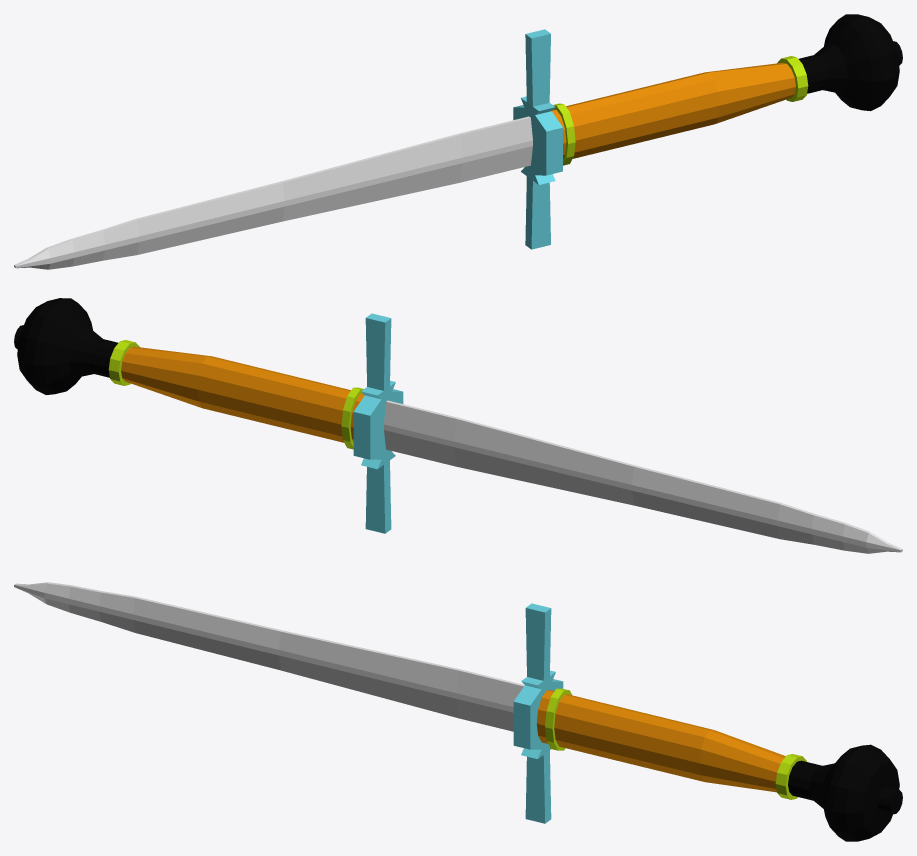
Rendered from Dagger.fbx.
3 renders of one model, top to bottom at view 1: azimuth 30°, elevation 25°; view 2: azimuth 150°, elevation 25°; view 3: azimuth 330°, elevation 25°, orthographic.
Visible parts, largest first — view 1: estoc.001; view 2: estoc.001; view 3: estoc.001.
Part boxes in pixels (x1,y1,x2,y2): estoc.001: [14, 14, 902, 269]; estoc.001: [14, 298, 902, 553]; estoc.001: [14, 582, 902, 841].
Bounding box in the file's own units: 236 × 53.95 × 23.17.
